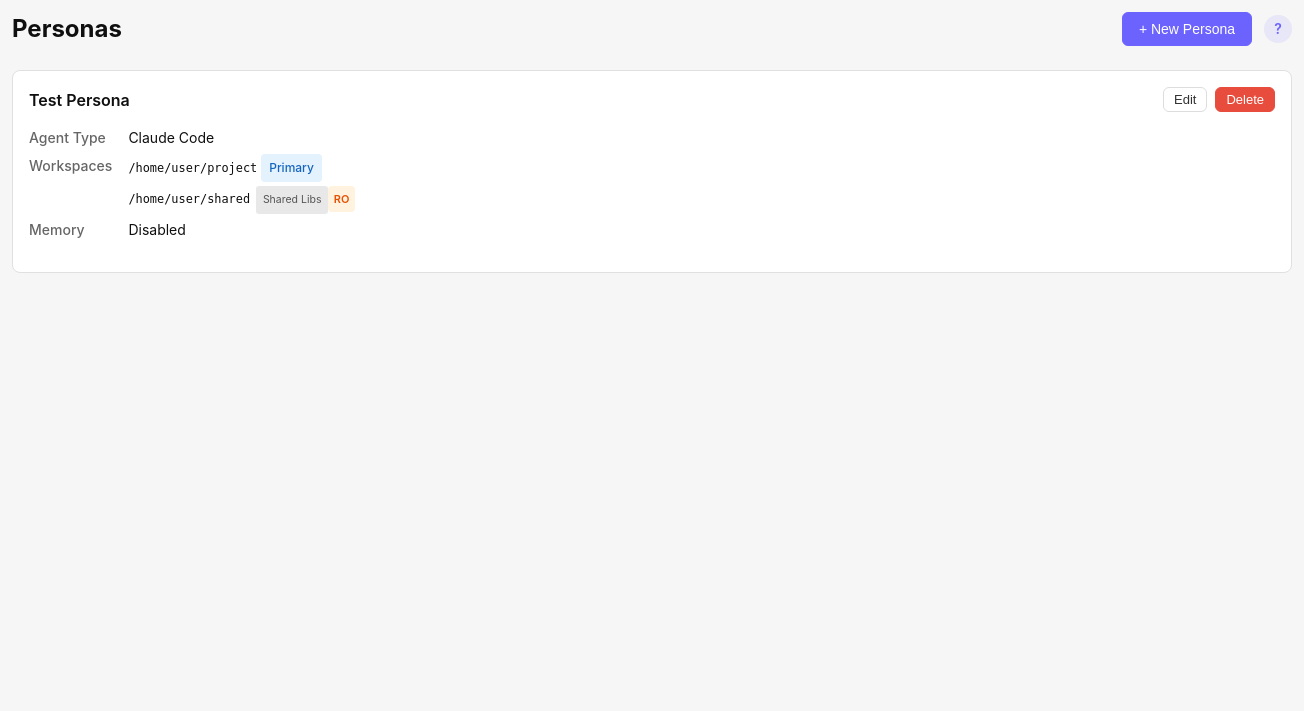
PersonasPage - Additional Workspaces › "Add Workspace" button appends new entry
The width and height of the screenshot is (1304, 711).
Click the button "+ New Persona": coordinates (1187, 29) [1122,12,1252,46]
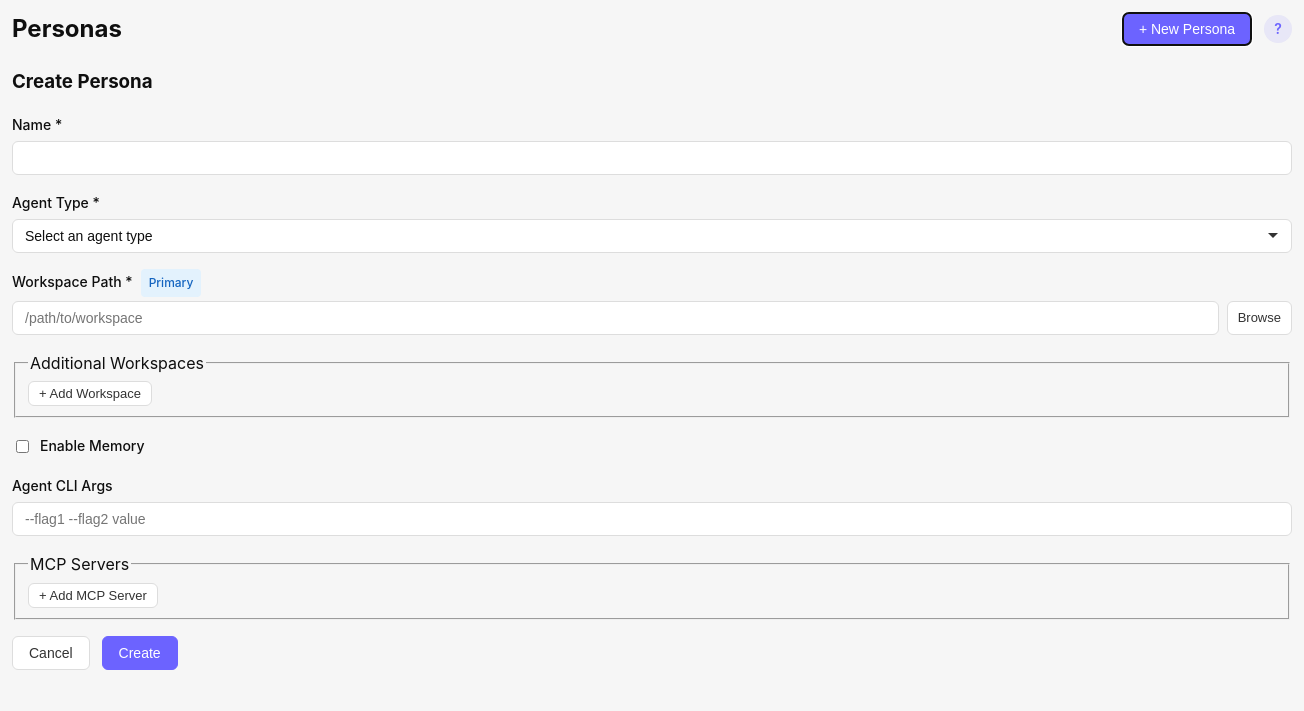
// Click "Add Workspace"
Click the button "+ Add Workspace": coordinates (90, 394) [28,381,152,406]
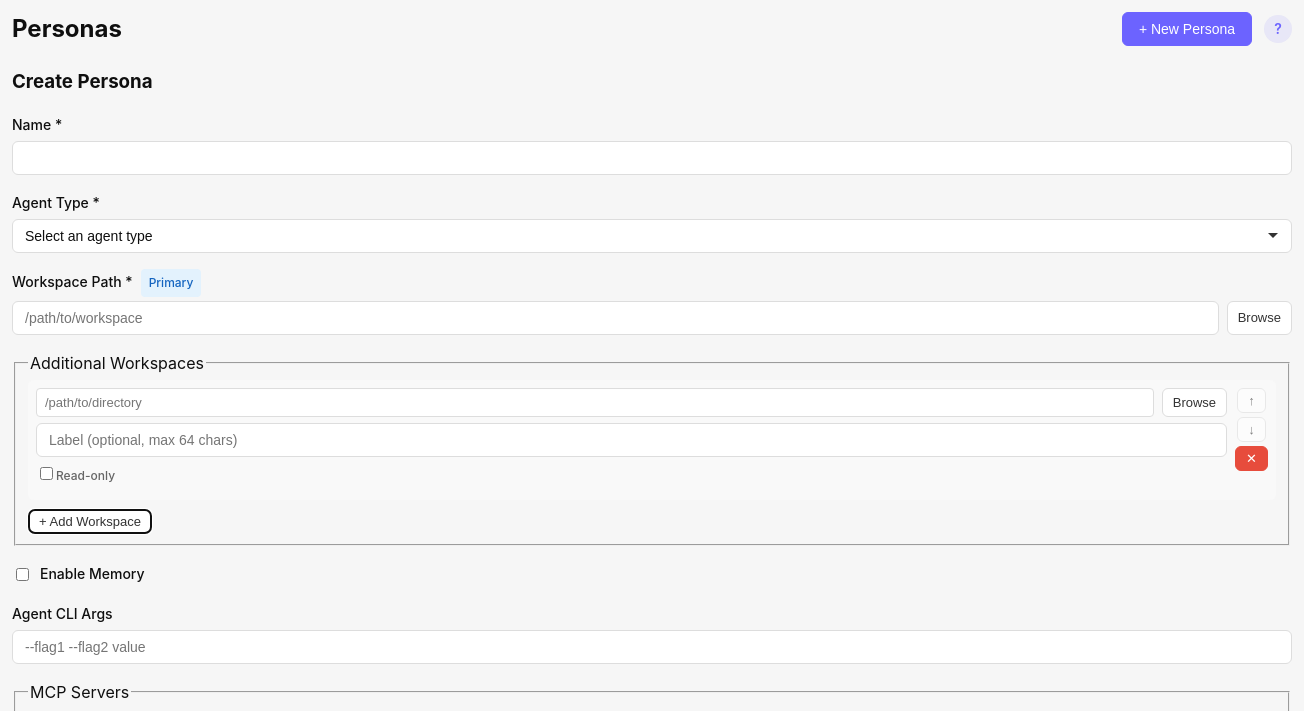
Expected: the field named "Additional workspace 1 path" is shown, [36,388,1154,417]
// Add another
Click the button "+ Add Workspace": coordinates (90, 522) [28,509,152,534]
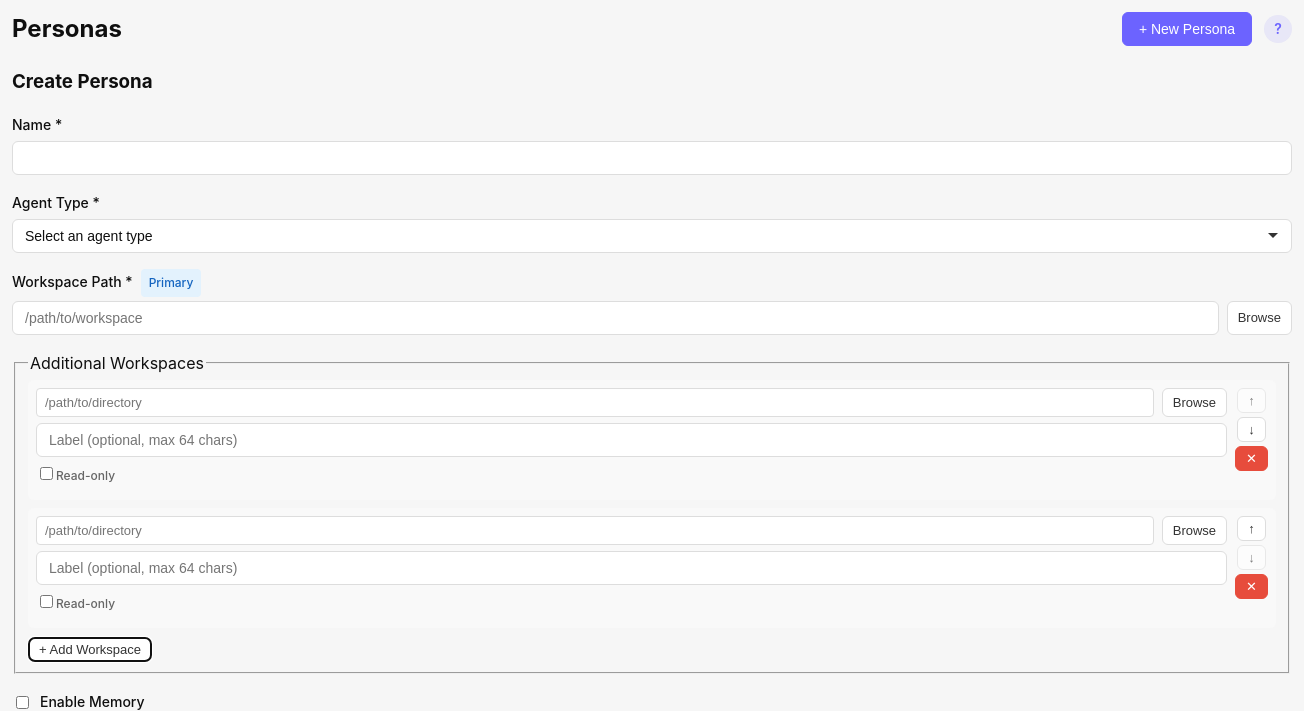
Expected: the field named "Additional workspace 2 path" is shown, [36,516,1154,545]
